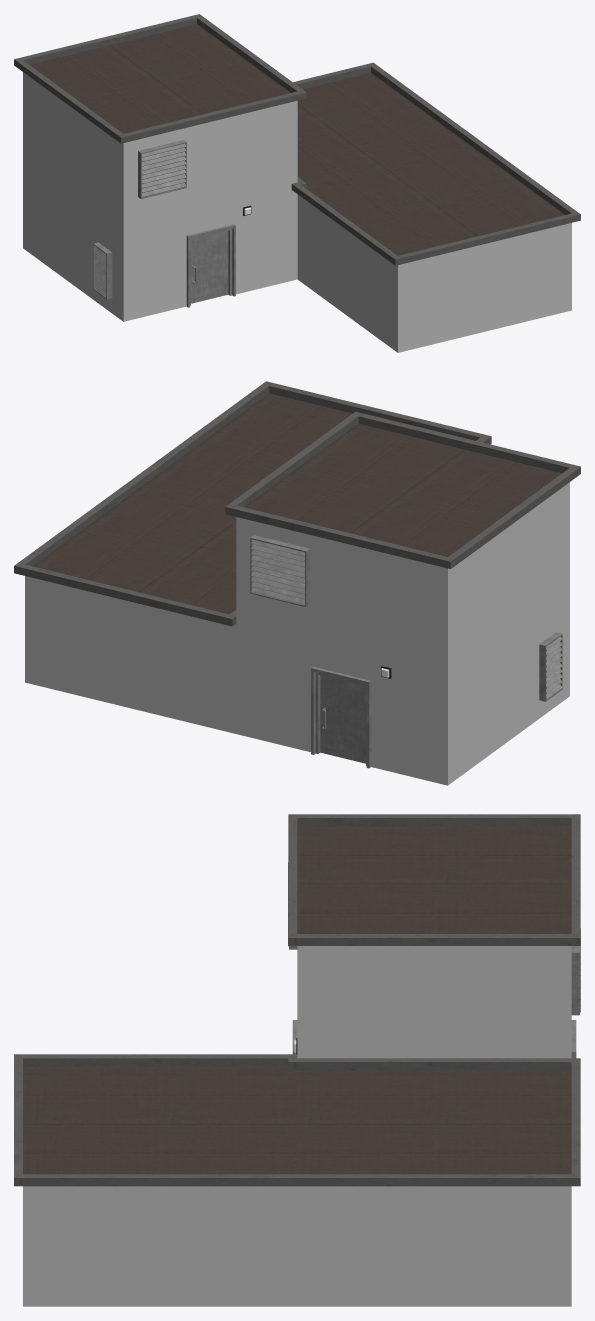
The model's file is roof_building.fbx.
3 renders of one model, top to bottom at view 1: azimuth 30°, elevation 25°; view 2: azimuth 150°, elevation 25°; view 3: azimuth 270°, elevation 25°, orthographic. The views are drawn at different scales.
Parts seen in each view (by area): view 1: roof_building.001; view 2: roof_building.001; view 3: roof_building.001.
Boxes of the visible parts, left/top/right/bottom form: roof_building.001: left=14, top=14, right=580, bottom=352; roof_building.001: left=14, top=381, right=580, bottom=785; roof_building.001: left=14, top=814, right=580, bottom=1306.
Size of the model in its own units: 1240 by 620 by 1240.
